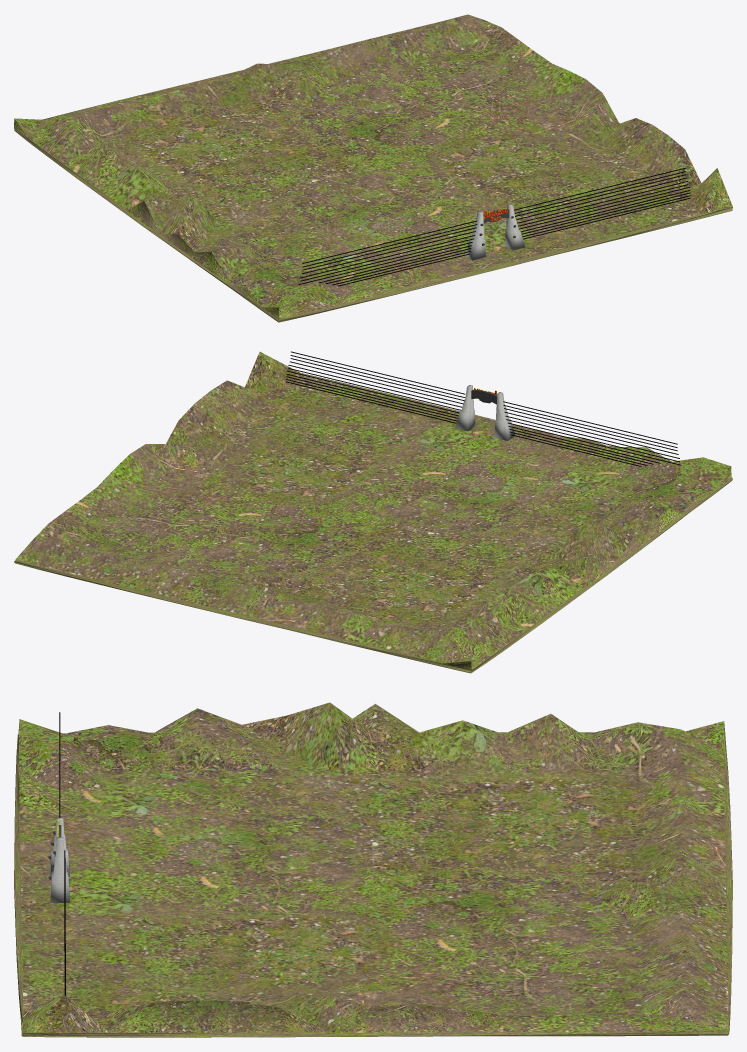
3 views of the same model, one above another, from view 1: azimuth 30°, elevation 25°; view 2: azimuth 150°, elevation 25°; view 3: azimuth 270°, elevation 25° (orthographic). The views are drawn at different scales.
Visible parts, largest first — view 1: Piso_del_escenario, Gate_Side; view 2: Piso_del_escenario, Gate_Side; view 3: Piso_del_escenario, Gate_Side.
Part boxes in pixels (left/top/right/bottom): Piso_del_escenario: left=14, top=14, right=732, bottom=322; Gate_Side: left=465, top=204, right=525, bottom=260; Piso_del_escenario: left=14, top=352, right=732, bottom=673; Gate_Side: left=455, top=385, right=514, bottom=440; Piso_del_escenario: left=14, top=702, right=732, bottom=1037; Gate_Side: left=50, top=817, right=69, bottom=902.
Bounding box in the file's own units: 51 × 4.95 × 51.
6 materials, 6 textured.
